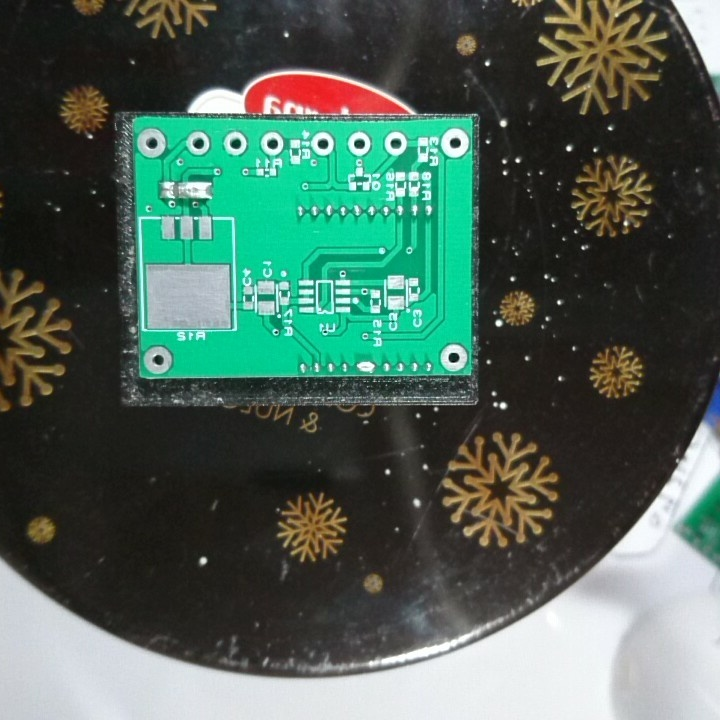F: (142, 344, 175, 377), (135, 127, 168, 159), (439, 126, 470, 160), (437, 343, 471, 373), (257, 129, 287, 158), (220, 129, 249, 158), (346, 129, 374, 158), (382, 129, 410, 158), (184, 129, 211, 158), (310, 129, 337, 157)
P: (174, 178, 215, 203), (354, 358, 377, 376)
